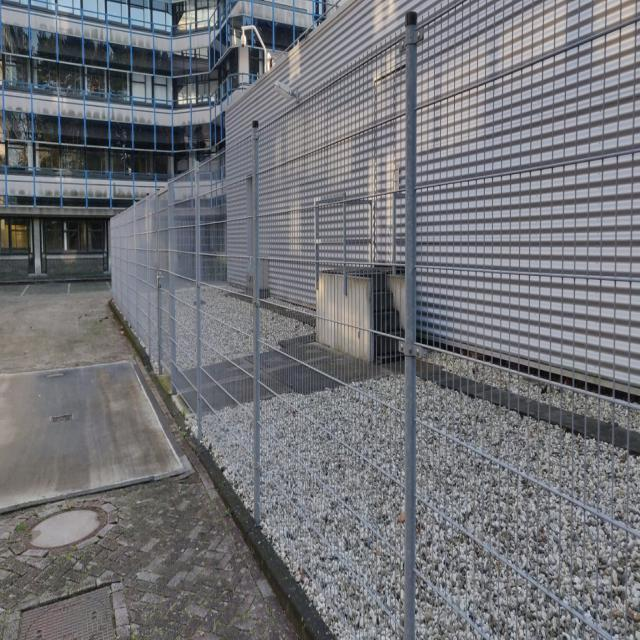fence line: (237, 82, 640, 640), (107, 191, 314, 556)
